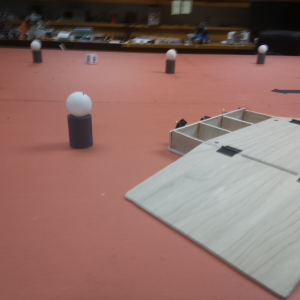blockF: (85, 52, 98, 66)
obstacle: (67, 92, 95, 151), (163, 48, 178, 76), (30, 40, 42, 63), (257, 42, 267, 65)
slope: (125, 142, 300, 299)
start: (272, 84, 299, 99)
